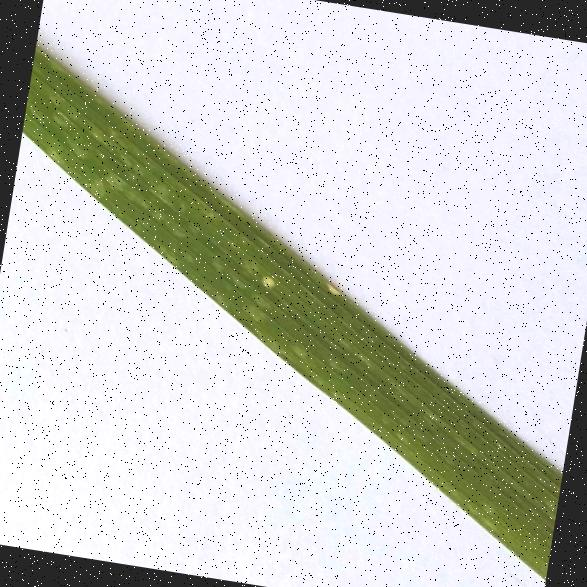Leaf_smut: (309, 268, 355, 302), (251, 258, 285, 300)
